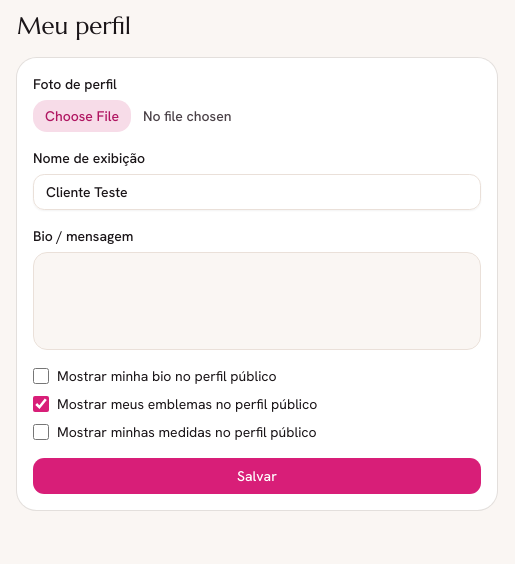
Test: PerfilPage › mostra mensagem de sucesso após salvar
Click the button "Salvar". click: (257, 476)
box: [33,458,481,494]
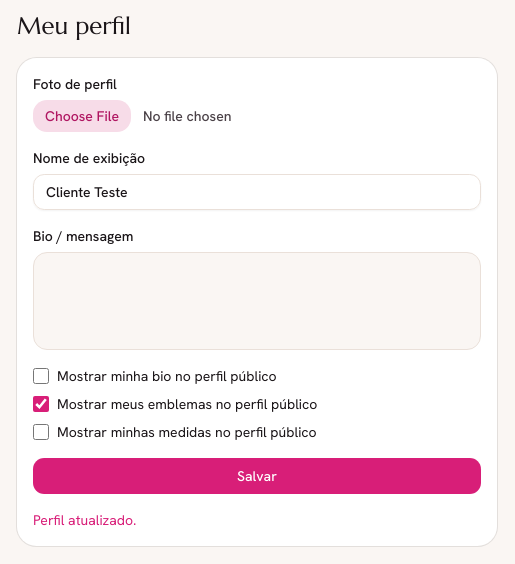
Expected: the message shows "Perfil atualizado", [33,511,136,529]
